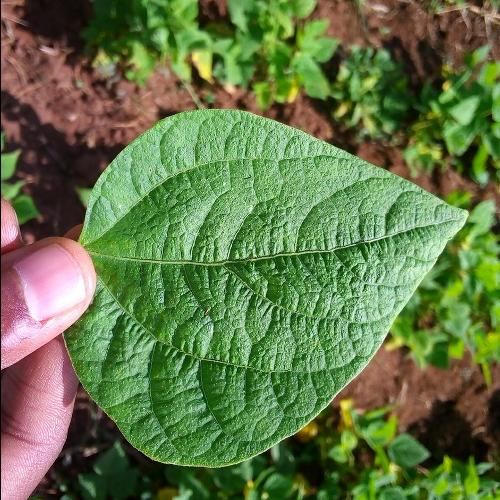mozaik: (120, 152, 258, 438), (275, 171, 349, 361)
